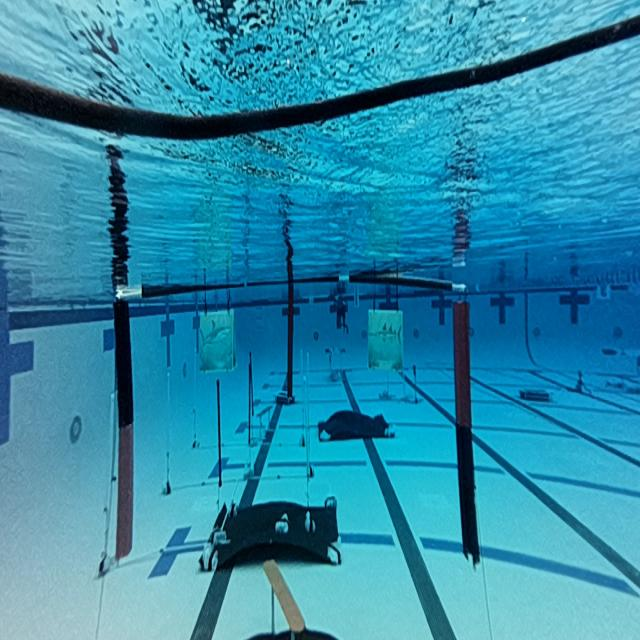pointed_nose: (368, 307, 403, 374)
round_nose: (196, 310, 237, 375)
